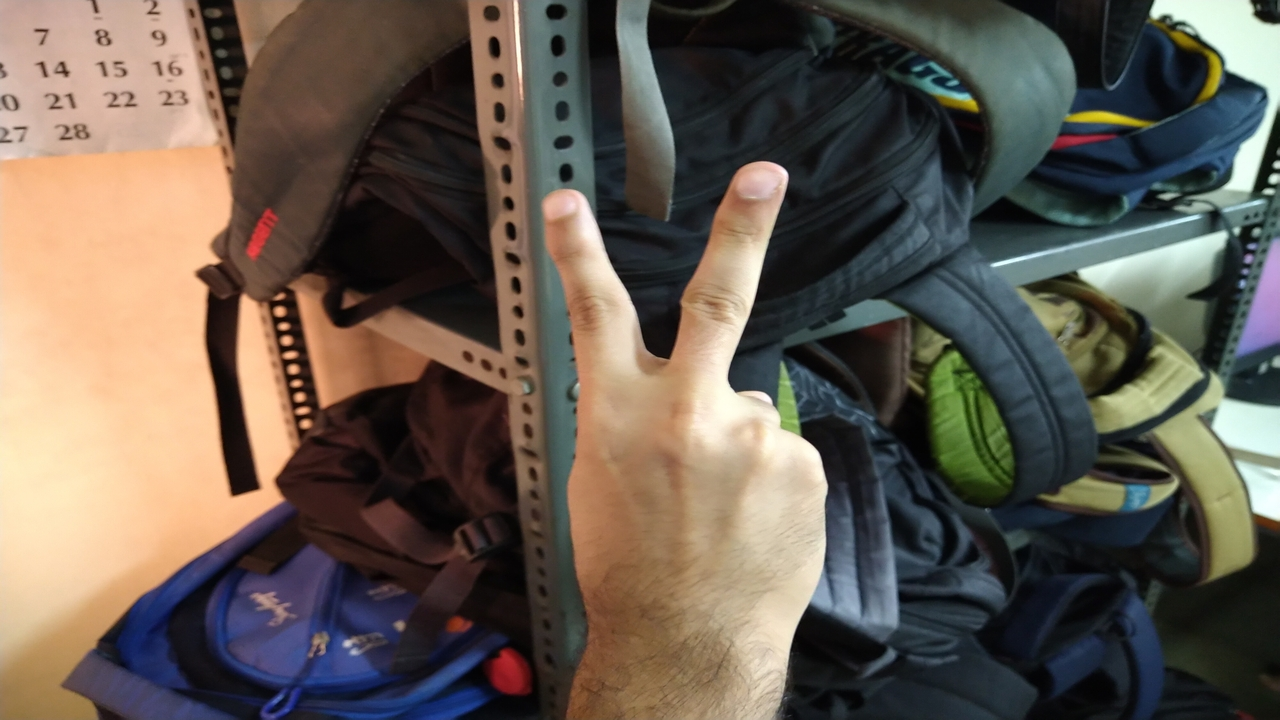fingertip: (528, 176, 602, 246), (722, 154, 792, 216)
